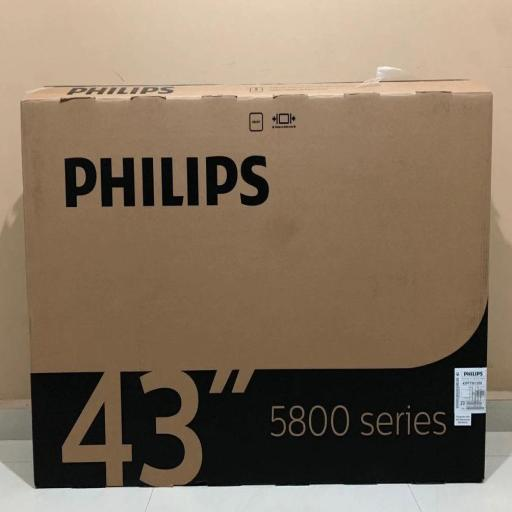cardboard: (20, 75, 494, 490)
